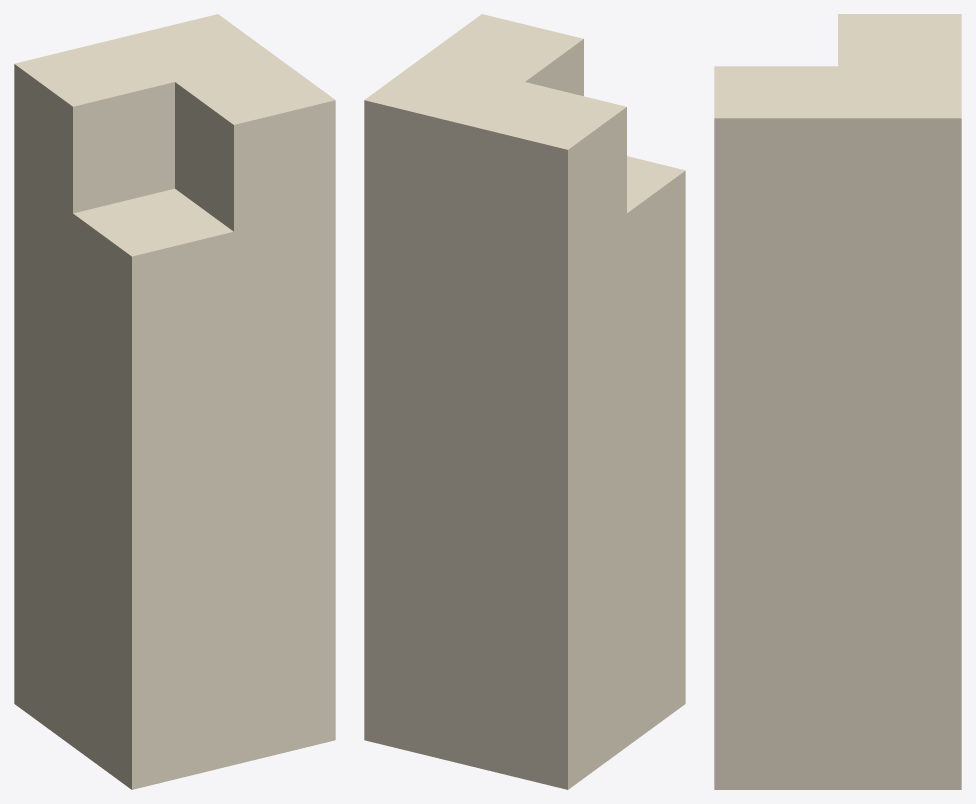
Rendered from arctic_fox__leg_bl.glb.
3 renders of one model, left to right at view 1: azimuth 30°, elevation 25°; view 2: azimuth 150°, elevation 25°; view 3: azimuth 270°, elevation 25°, orthographic. The views are drawn at different scales.
Parts seen in each view (by area): view 1: arctic_fox__leg_bl; view 2: arctic_fox__leg_bl; view 3: arctic_fox__leg_bl.
Part boxes in pixels (x1,y1,x2,y2): arctic_fox__leg_bl: (14,14,335,789); arctic_fox__leg_bl: (364,14,685,789); arctic_fox__leg_bl: (714,14,961,789).
Bounding box in the file's own units: 0.2 × 0.6 × 0.2.
Materials: 1 (1 with a texture image).
